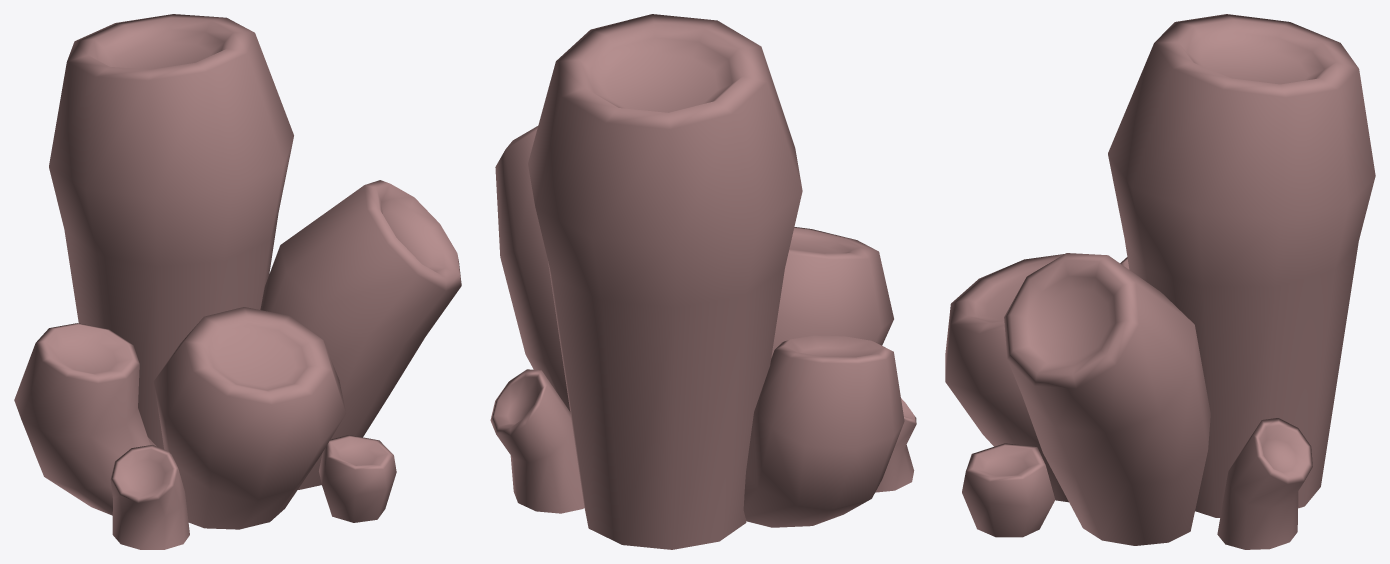
The model's file is Coral 3.fbx.
3 views of the same model, side by side, from view 1: azimuth 30°, elevation 25°; view 2: azimuth 150°, elevation 25°; view 3: azimuth 270°, elevation 25° (orthographic). The views are drawn at different scales.
Parts seen in each view (by area): view 1: pasted__pCylinder1; view 2: pasted__pCylinder1; view 3: pasted__pCylinder1.
Boxes of the visible parts, x1,y1,x2,y2 form: pasted__pCylinder1: (14,14,461,549); pasted__pCylinder1: (490,14,916,549); pasted__pCylinder1: (945,14,1375,549).
Size of the model in its own units: 1.31 by 1.33 by 1.18.
